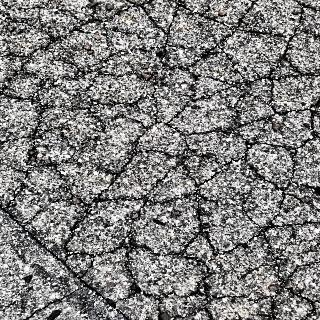alligator-crack: (4, 3, 320, 320)
